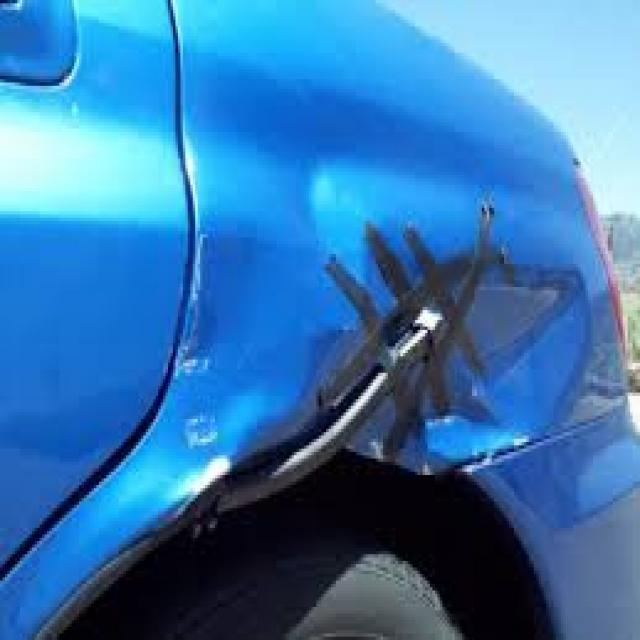moderate: (100, 185, 549, 504)
